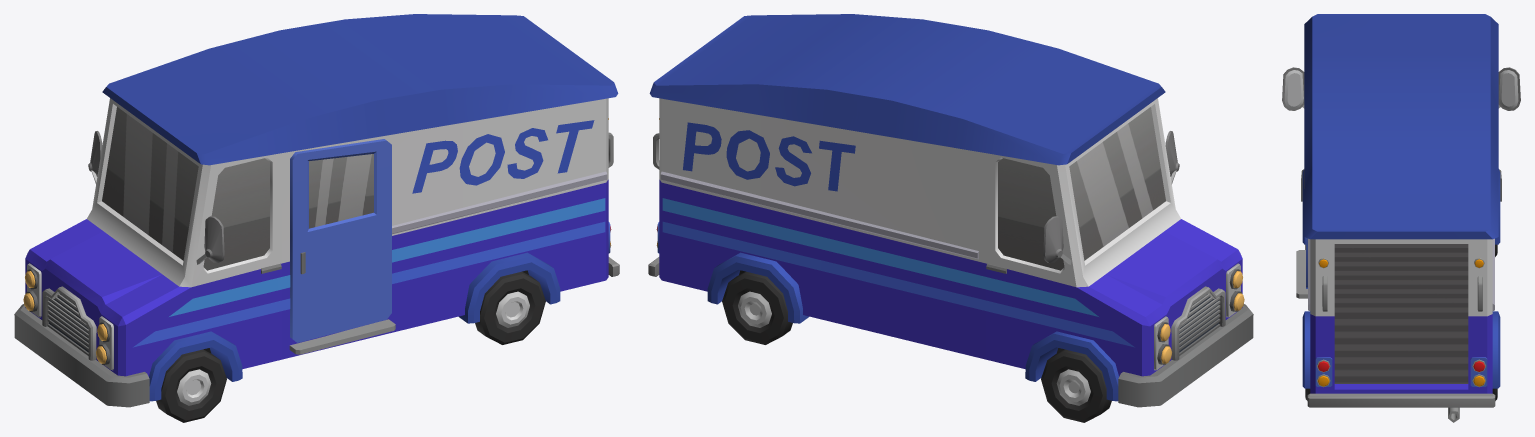
Rendered from PostCar_2_A.gltf.
The picture shows the model from 3 angles, left to right: view 1: azimuth 30°, elevation 25°; view 2: azimuth 150°, elevation 25°; view 3: azimuth 270°, elevation 25°; orthographic projection. The views are drawn at different scales.
Parts seen in each view (by area): view 1: PostCar_2_A, FL, RL; view 2: PostCar_2_A, FR, RR; view 3: PostCar_2_A.
Boxes of the visible parts, <box> form: PostCar_2_A: <box>14,14,619,407</box>; FL: <box>156,349,226,422</box>; RL: <box>475,271,545,344</box>; PostCar_2_A: <box>648,14,1253,407</box>; FR: <box>1041,349,1111,422</box>; RR: <box>722,271,792,344</box>; PostCar_2_A: <box>1282,14,1520,422</box>.
Bounding box in the file's own units: 4.14 × 2.11 × 1.8.
Materials: 5 (5 with a texture image).
